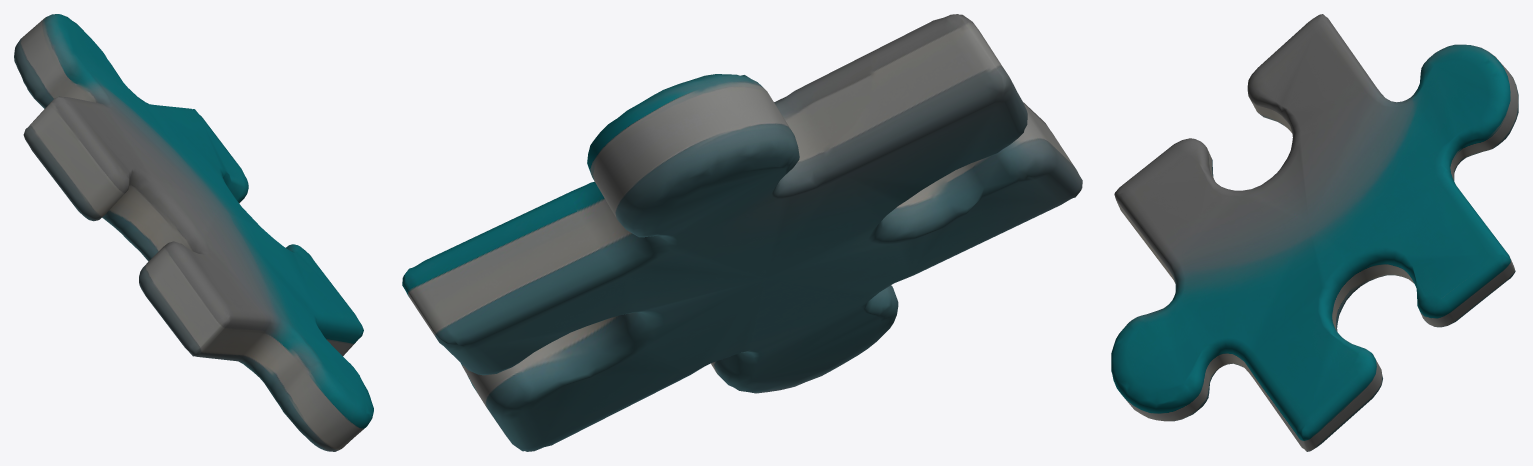
File: icon-puzzle.glb
3 renders of one model, left to right at view 1: azimuth 30°, elevation 25°; view 2: azimuth 150°, elevation 25°; view 3: azimuth 270°, elevation 25°, orthographic. The views are drawn at different scales.
Parts seen in each view (by area): view 1: tripo_node_kodyurd-model-59____________________; view 2: tripo_node_kodyurd-model-59____________________; view 3: tripo_node_kodyurd-model-59____________________.
Boxes of the visible parts, bbox=[...] form: tripo_node_kodyurd-model-59____________________: bbox=[14, 14, 373, 451]; tripo_node_kodyurd-model-59____________________: bbox=[402, 14, 1082, 451]; tripo_node_kodyurd-model-59____________________: bbox=[1111, 14, 1518, 451].
Bounding box in the file's own units: 0.8809 × 0.8574 × 0.998.
Materials: 1 (1 with a texture image).
